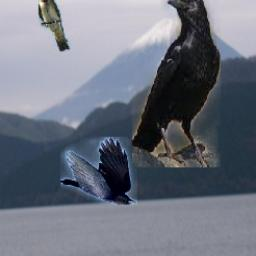Crow: (131, 0, 220, 167), (60, 137, 137, 205)
Swallow: (39, 0, 72, 53)
